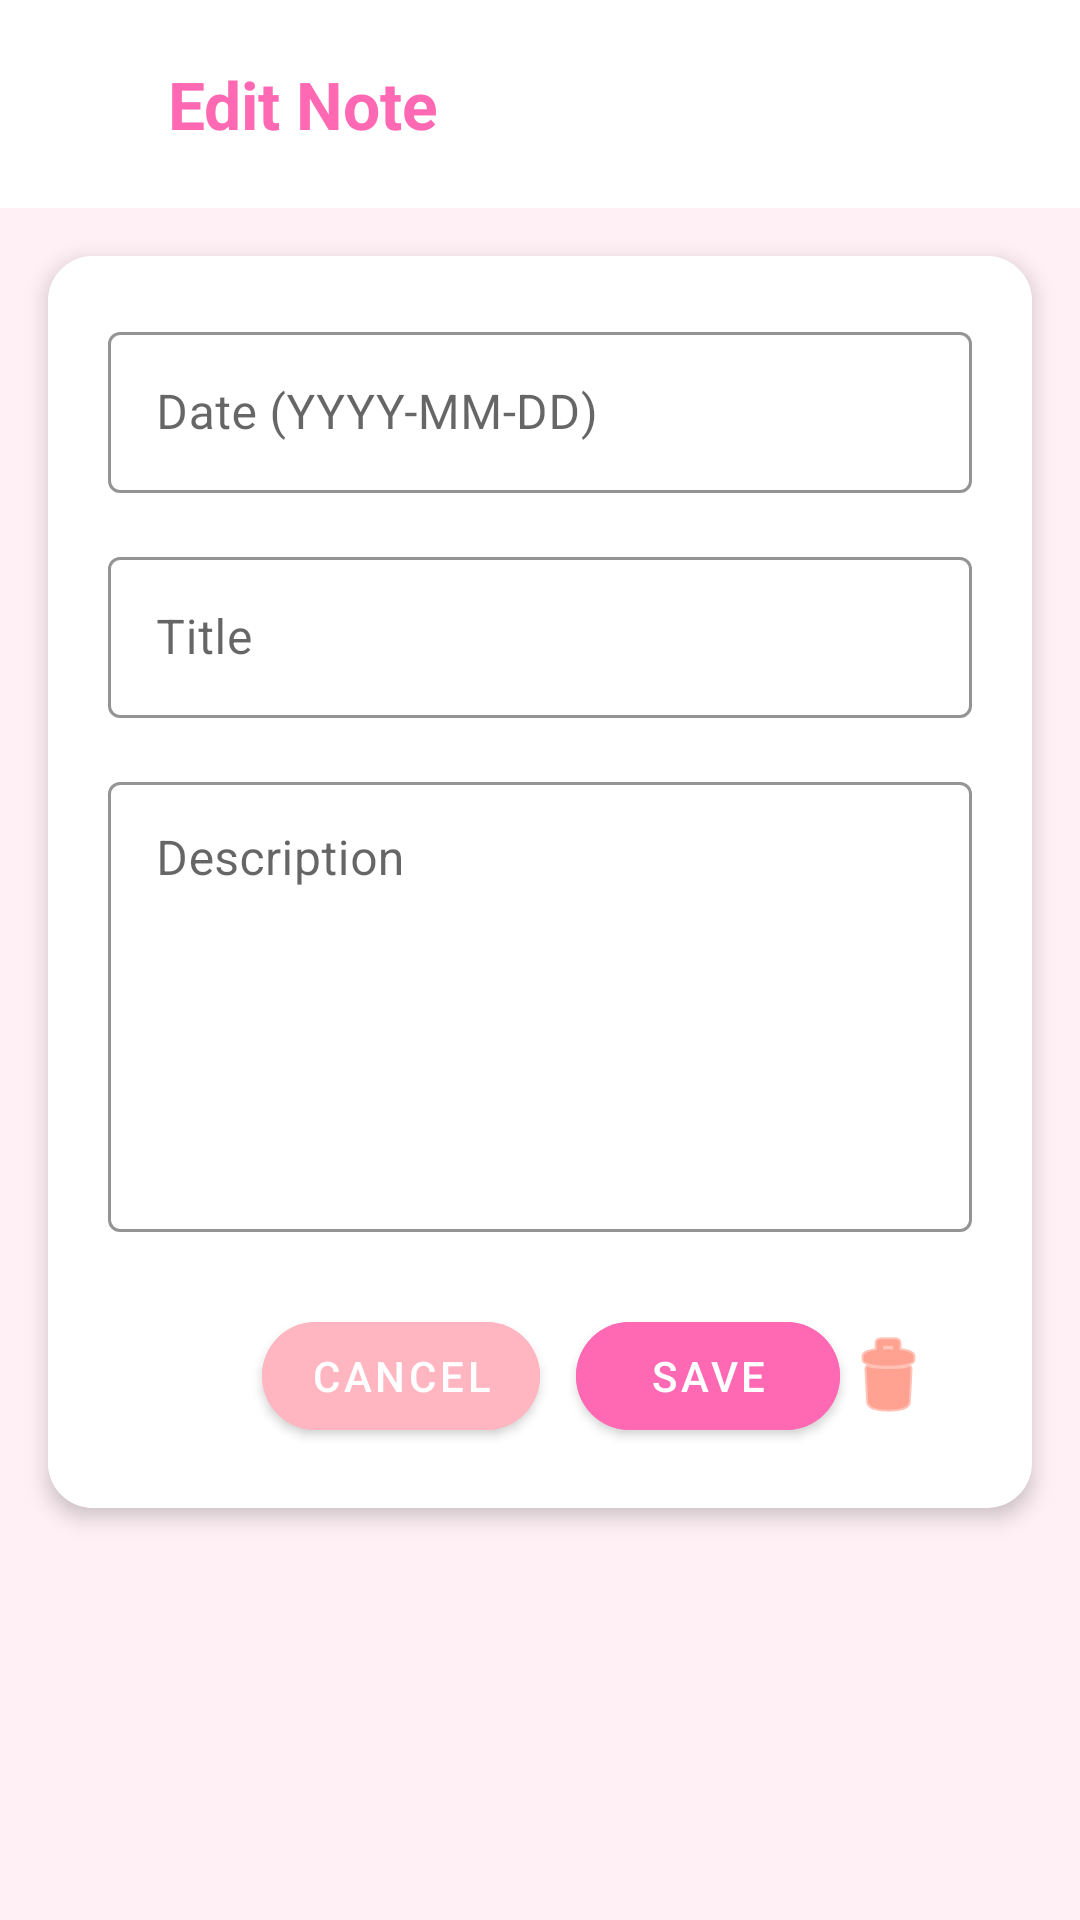

Named icons in this screenshot (1080×1920) and their bounding boxes, (x1, y1, x2, y2):
delete: (861, 1337, 916, 1412)
